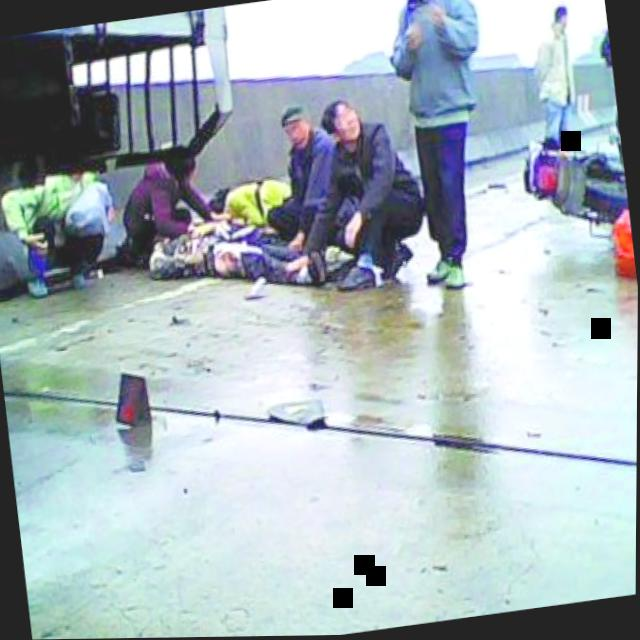Fall-Detected: (133, 194, 358, 322)
